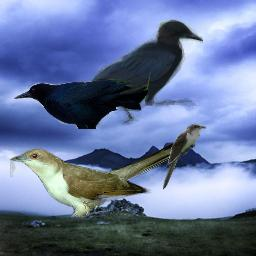Crow: (53, 19, 203, 125), (13, 79, 148, 129)
Cuckoo: (10, 130, 200, 217), (161, 123, 206, 190)
